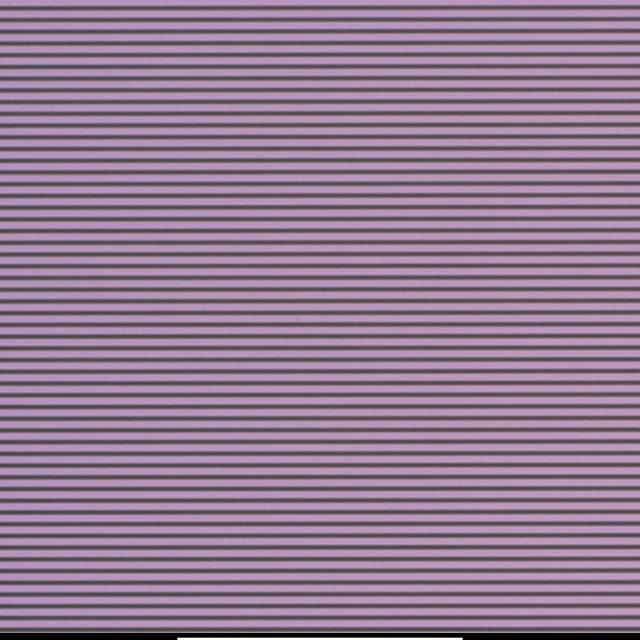nonvisual: (290, 311, 306, 328)
